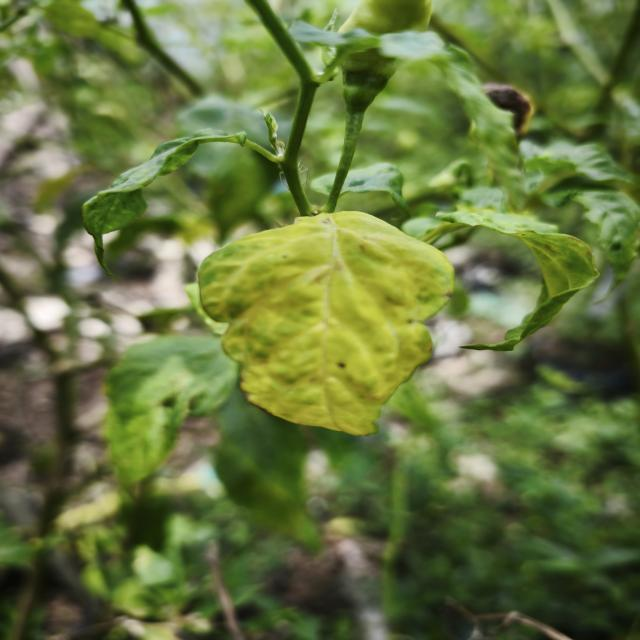Virus Kuning: (195, 209, 456, 436)
